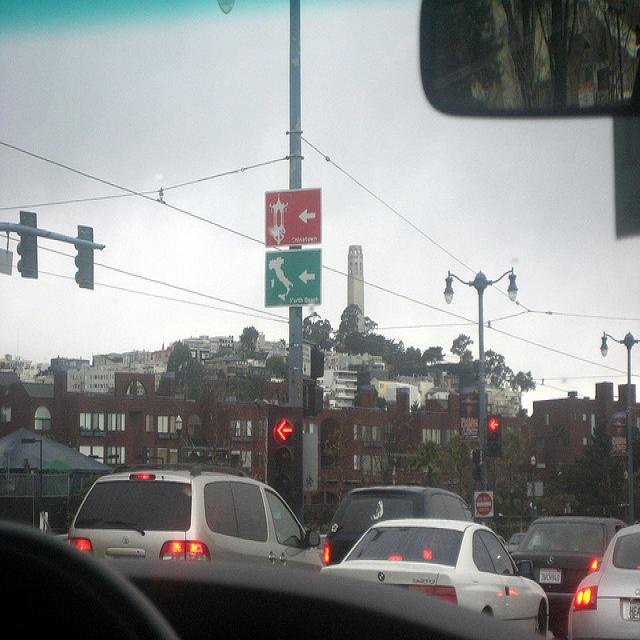Vehicle: (1, 514, 550, 640), (327, 524, 556, 627), (70, 470, 305, 563), (510, 514, 630, 635), (324, 489, 476, 564), (566, 524, 640, 640), (504, 533, 526, 553)
